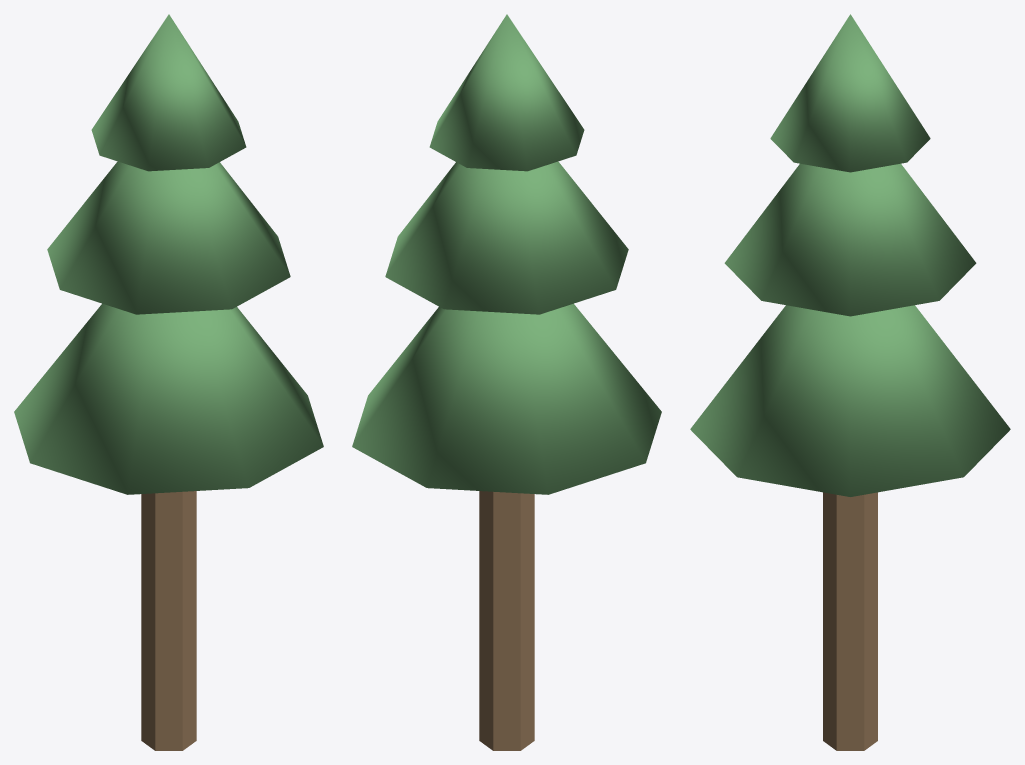
File: pine_tree.glb
3 renders of one model, left to right at view 1: azimuth 30°, elevation 25°; view 2: azimuth 150°, elevation 25°; view 3: azimuth 270°, elevation 25°, orthographic.
Visible parts, largest first — view 1: PineLayer_0, PineLayer_1, PineTrunk, PineLayer_2; view 2: PineLayer_0, PineLayer_1, PineTrunk, PineLayer_2; view 3: PineLayer_0, PineLayer_1, PineTrunk, PineLayer_2.
Boxes of the visible parts, x1,y1,x2,y2 form: PineLayer_0: [14, 303, 323, 494]; PineLayer_1: [47, 161, 290, 314]; PineTrunk: [141, 491, 196, 750]; PineLayer_2: [91, 14, 246, 171]; PineLayer_0: [352, 303, 661, 494]; PineLayer_1: [385, 161, 628, 314]; PineTrunk: [479, 491, 534, 750]; PineLayer_2: [429, 14, 584, 171]; PineLayer_0: [690, 305, 1010, 496]; PineLayer_1: [724, 163, 976, 316]; PineTrunk: [823, 492, 877, 750]; PineLayer_2: [770, 14, 930, 172].
Bounding box in the file's own units: 1.4 × 3.5 × 1.4.
